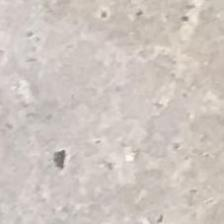Non_Crack: (20, 34, 216, 200)
